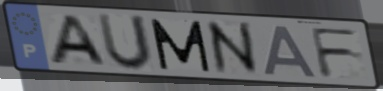A: (47, 14, 111, 68), (263, 23, 322, 79)
F: (307, 26, 362, 79)
M: (147, 17, 214, 73)
N: (202, 20, 264, 77)
U: (95, 11, 155, 73)
